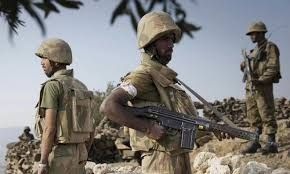gun: (103, 92, 272, 151)
uniform: (114, 6, 198, 167), (231, 9, 283, 155), (37, 37, 91, 170)
